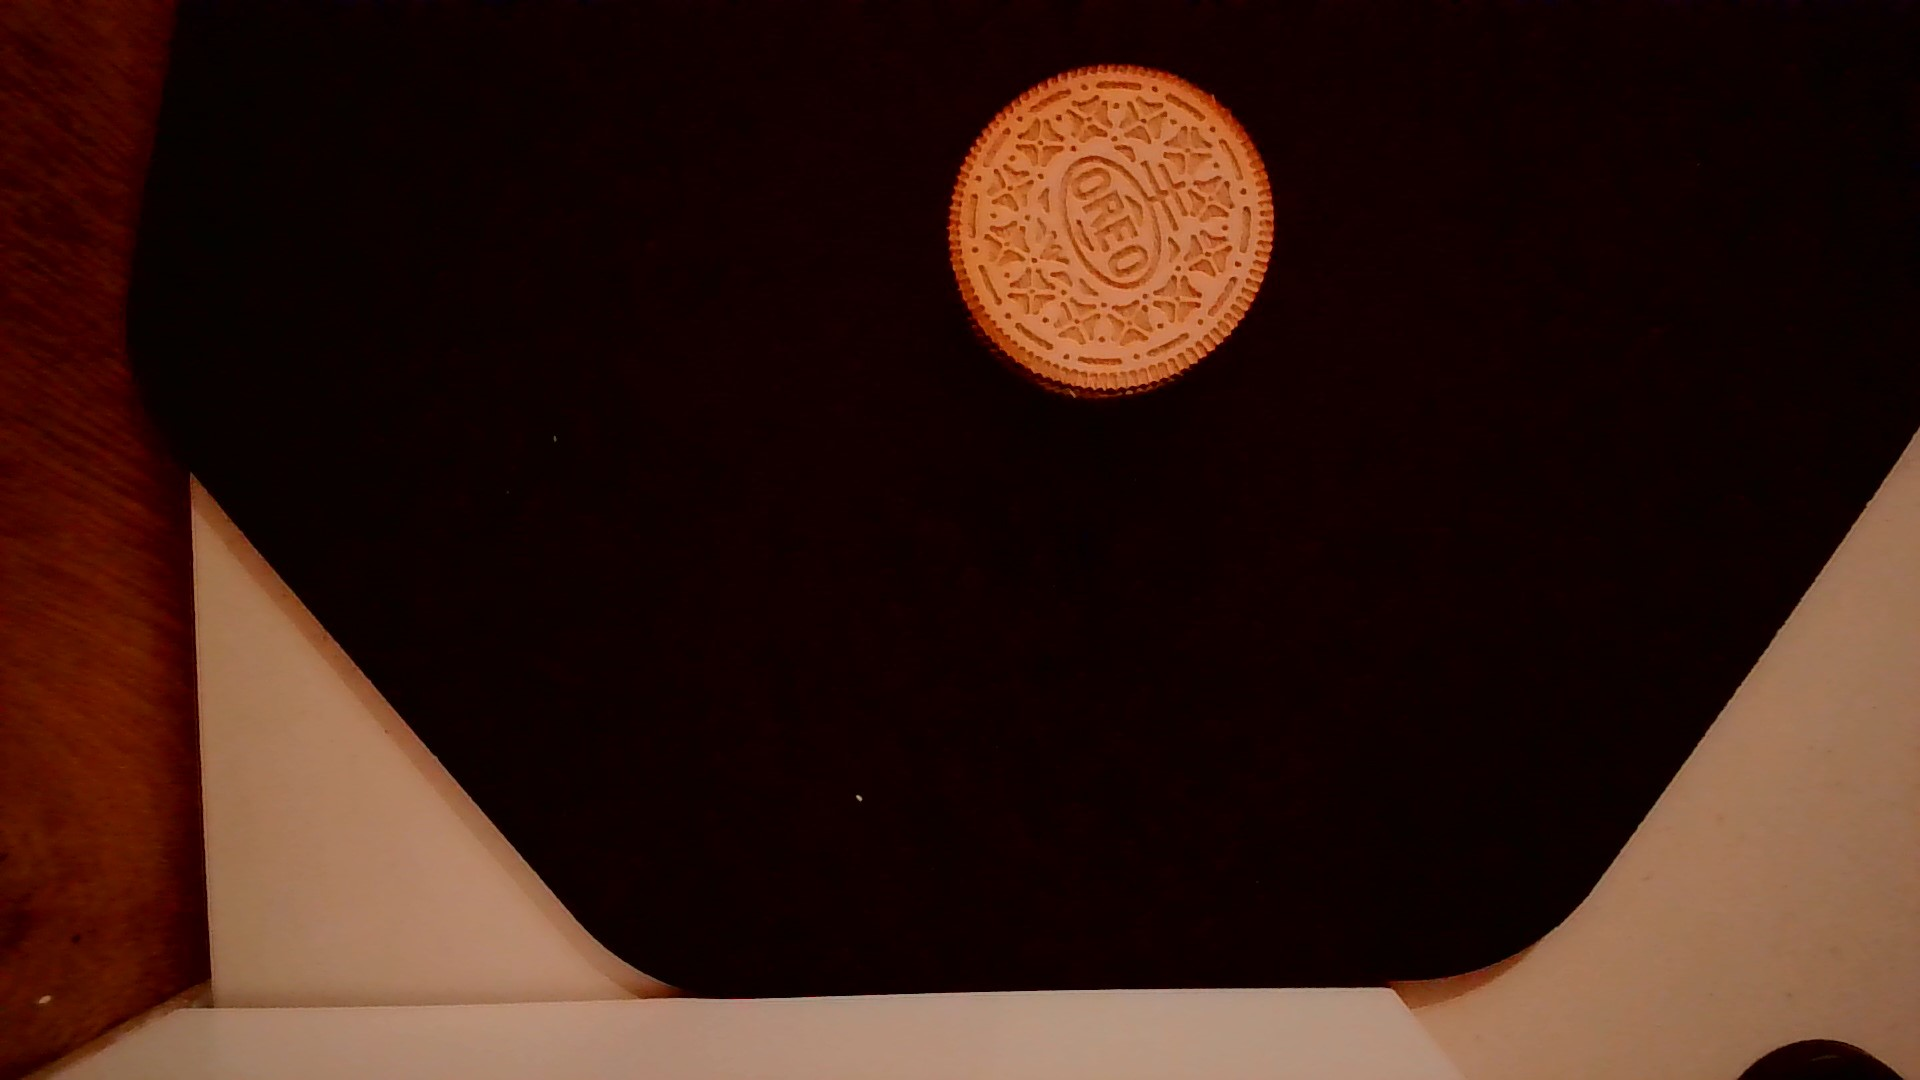Oréo: (931, 57, 1283, 409)
